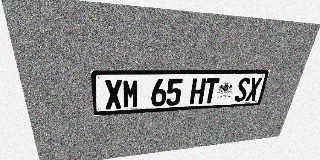5: (166, 78, 183, 106)
6: (151, 79, 167, 107)
H: (189, 78, 206, 104)
M: (122, 79, 139, 108)
S: (234, 77, 251, 102)
T: (202, 78, 220, 104)
X: (104, 79, 122, 109), (245, 77, 262, 101)
